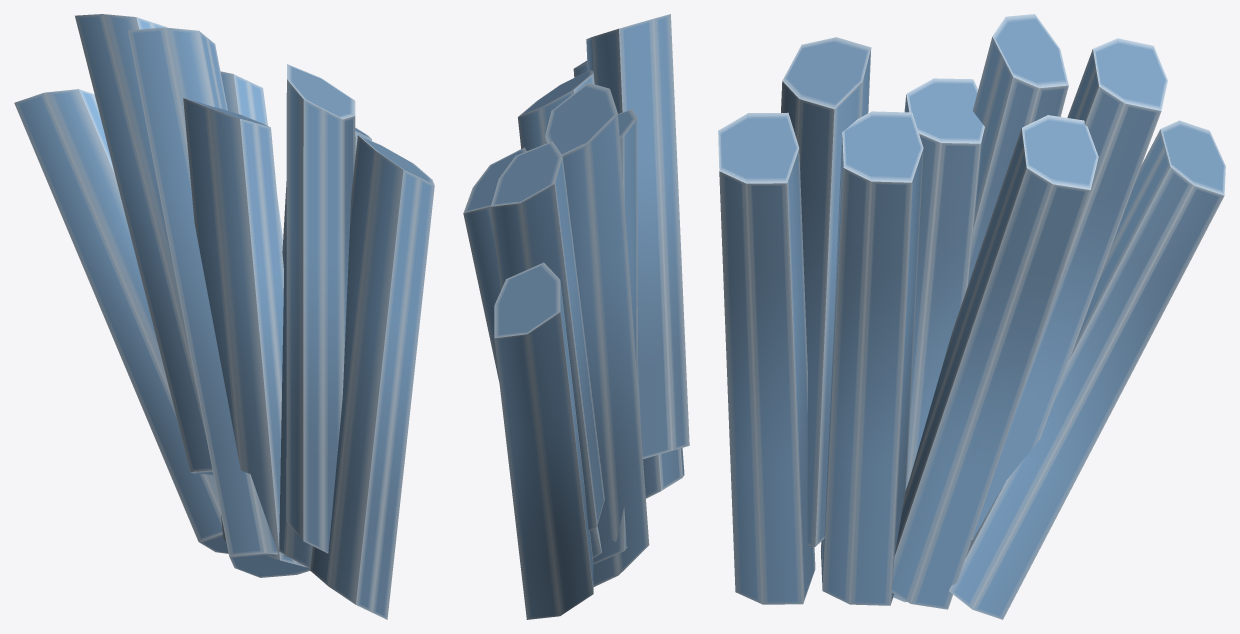
The model's file is wall_crystal_pipes_01.fbx.
3 renders of one model, left to right at view 1: azimuth 30°, elevation 25°; view 2: azimuth 150°, elevation 25°; view 3: azimuth 270°, elevation 25°, orthographic. The views are drawn at different scales.
Visible parts, largest first — view 1: wall_crystal_pipes_01; view 2: wall_crystal_pipes_01; view 3: wall_crystal_pipes_01.
Part boxes in pixels (x1,y1,x2,y2): wall_crystal_pipes_01: (14, 14, 434, 619); wall_crystal_pipes_01: (463, 14, 689, 619); wall_crystal_pipes_01: (718, 14, 1225, 619).
Bounding box in the file's own units: 0.8574 × 2.32 × 1.9.
1 material, 1 textured.
